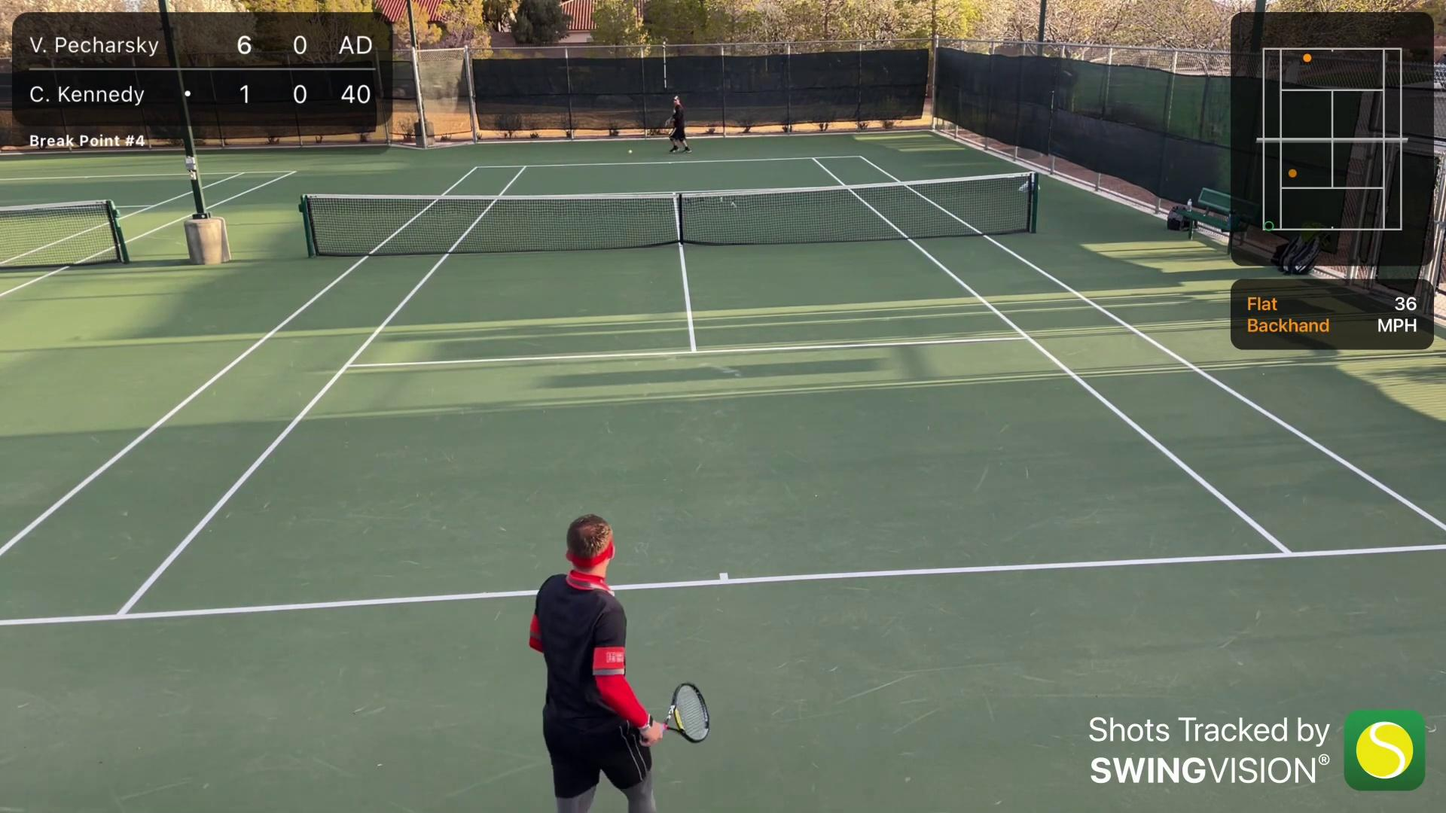ball: (627, 150, 634, 155)
